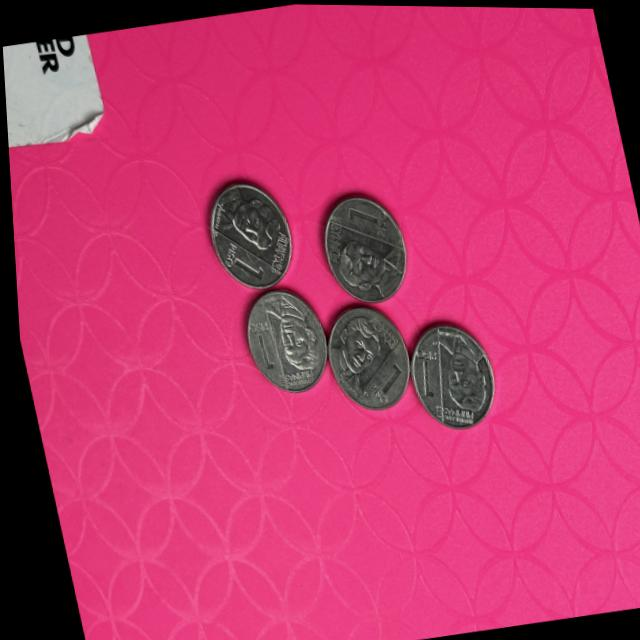1_New_Front: (357, 348, 415, 407), (403, 336, 444, 404), (337, 192, 390, 244), (237, 324, 277, 381), (214, 246, 261, 284)
